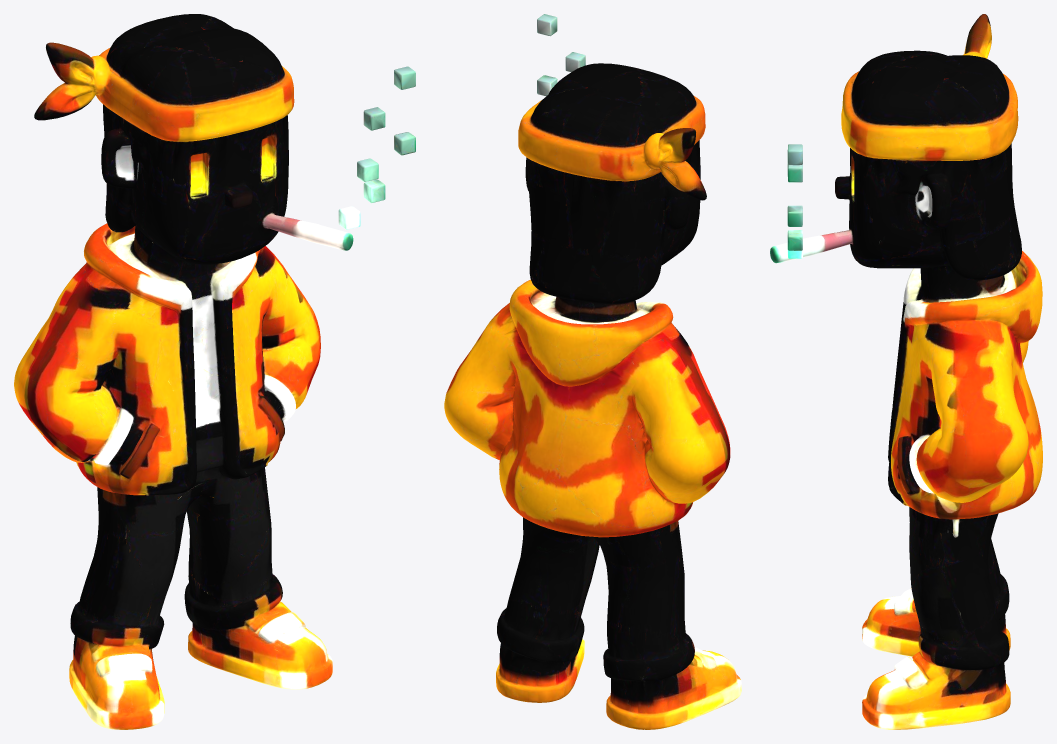
File: Founder Fish standing.glb
3 views of the same model, side by side, from view 1: azimuth 30°, elevation 25°; view 2: azimuth 150°, elevation 25°; view 3: azimuth 270°, elevation 25° (orthographic). The views are drawn at different scales.
Bounding box in the file's own units: 0.8984 × 1.9 × 0.7684.
1 material, 1 textured.
